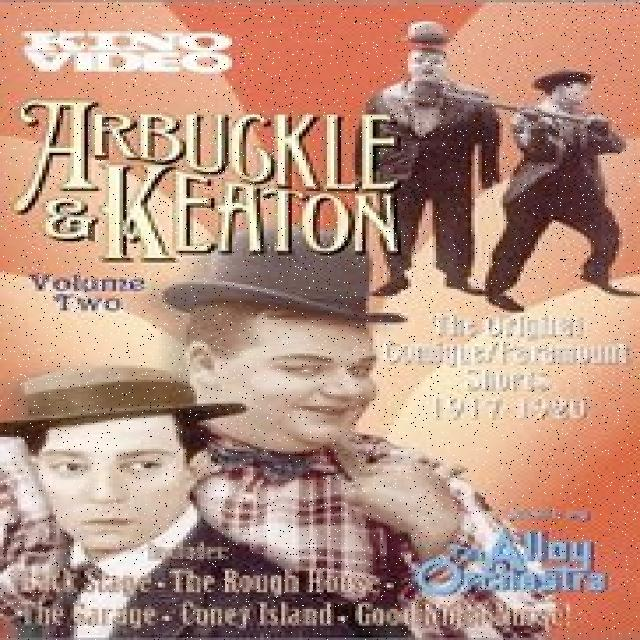movie-judul: (14, 95, 402, 266)
picture: (14, 245, 572, 637), (357, 24, 640, 300)
